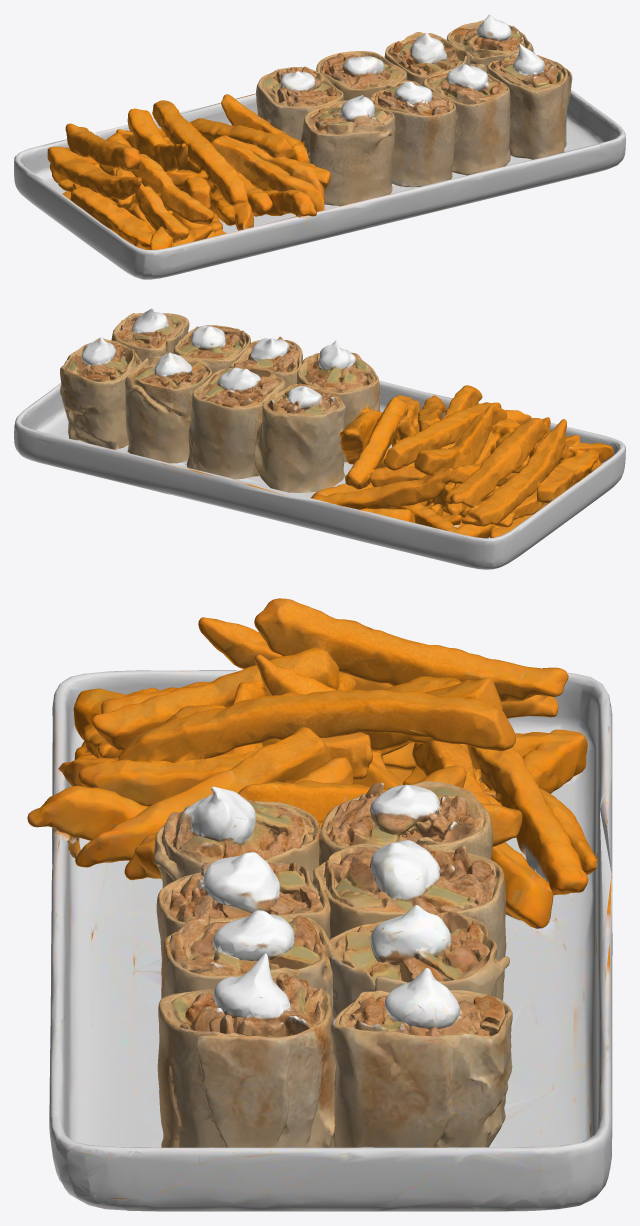
The model's file is shawarma-saj.glb.
3 renders of one model, top to bottom at view 1: azimuth 30°, elevation 25°; view 2: azimuth 150°, elevation 25°; view 3: azimuth 270°, elevation 25°, orthographic. The views are drawn at different scales.
Parts seen in each view (by area): view 1: mesh_node; view 2: mesh_node; view 3: mesh_node.
Boxes of the visible parts, <box> form: mesh_node: <box>14,14,625,279</box>; mesh_node: <box>14,308,625,569</box>; mesh_node: <box>27,598,612,1211</box>.
Size of the model in its own units: 1.9 by 0.3838 by 0.9748.
1 material, 1 textured.
